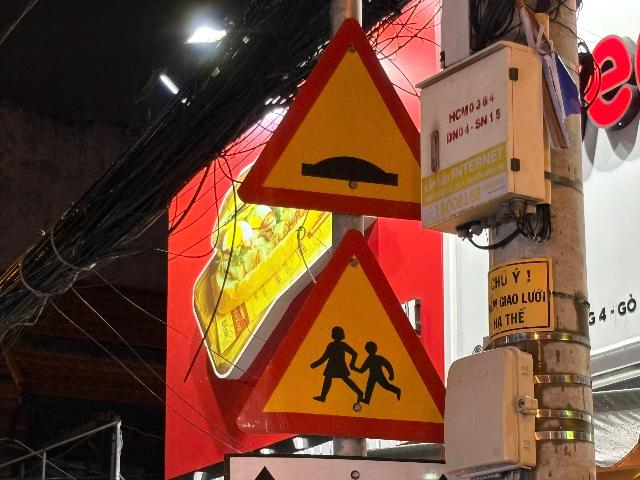duong-co-go-giam-toc: (237, 18, 423, 222)
tre-em-qua-duong: (235, 230, 444, 443)
